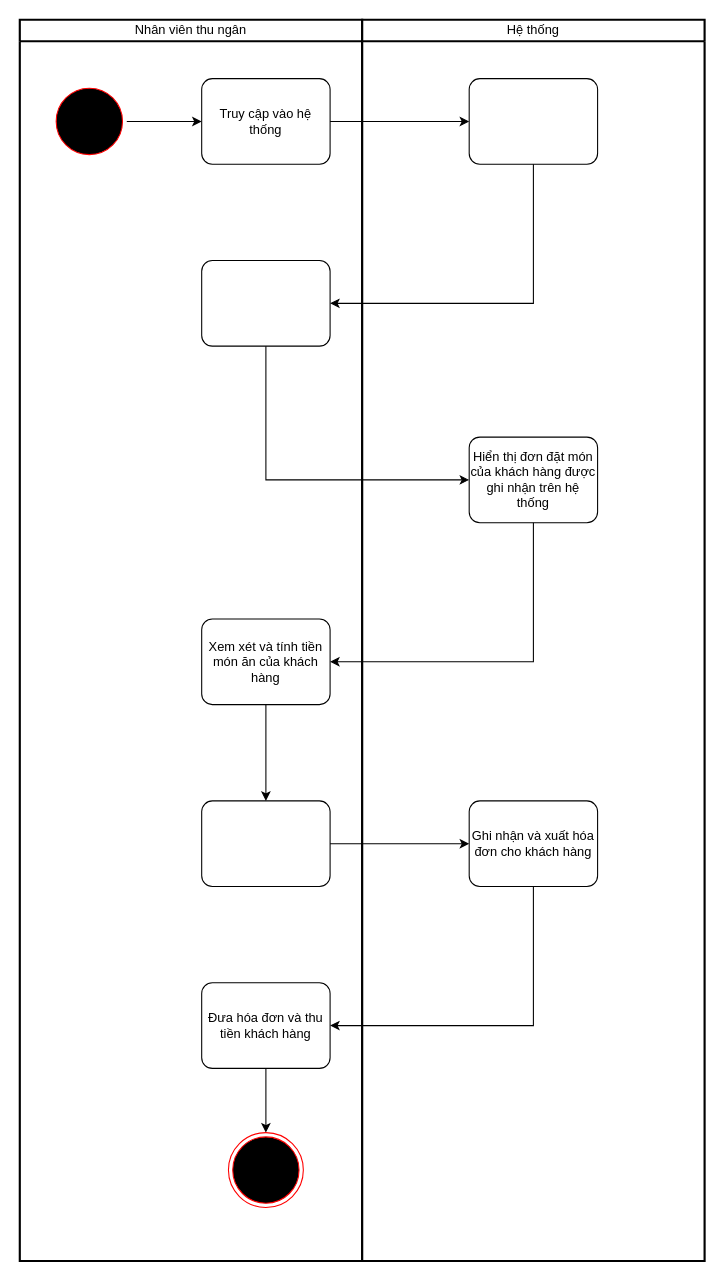
Image size: 723x1280. Some labels were removed from this diagram. Each missing label, with the centre of its shape:
Hiện thị giao diện hệ thống: the point at 533,121
Truy cập vào hóa đơn khách hàng: the point at 265,302
Xuất hòa đơn cho khách hàng: the point at 265,843
